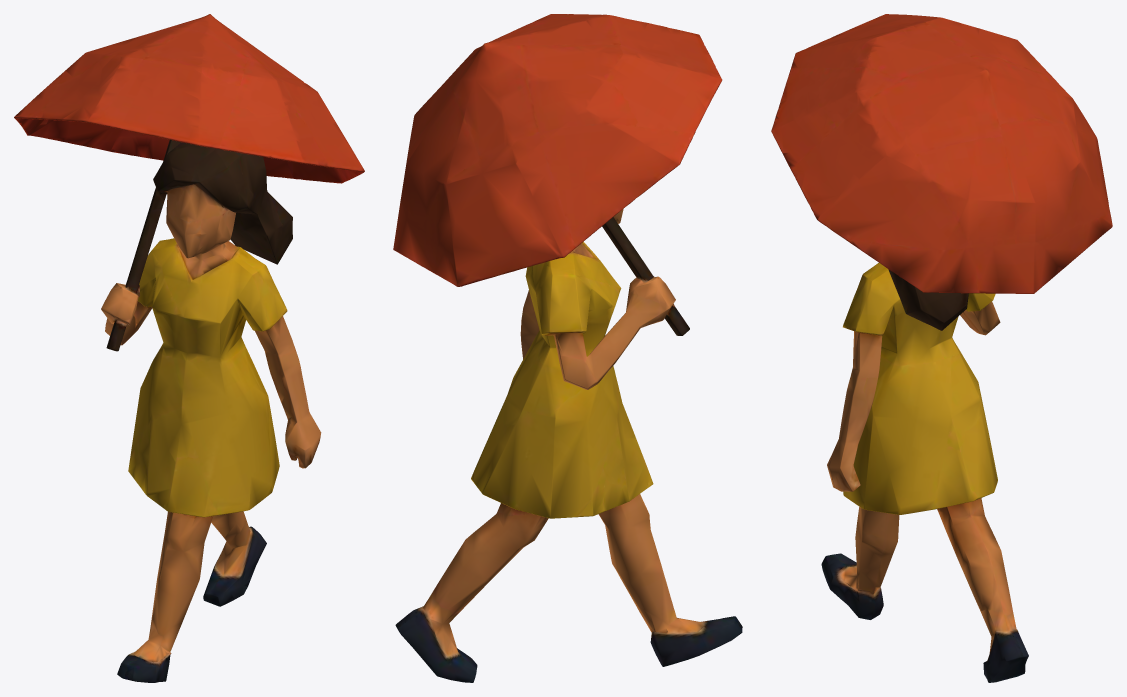
Rendered from przechodzien-k.glb.
3 renders of one model, left to right at view 1: azimuth 30°, elevation 25°; view 2: azimuth 150°, elevation 25°; view 3: azimuth 270°, elevation 25°, orthographic. The views are drawn at different scales.
Parts seen in each view (by area): view 1: tripo_node_907d481c-e128-43e4-a42b-955163d28818; view 2: tripo_node_907d481c-e128-43e4-a42b-955163d28818; view 3: tripo_node_907d481c-e128-43e4-a42b-955163d28818.
Boxes of the visible parts, x1,y1,x2,y2 form: tripo_node_907d481c-e128-43e4-a42b-955163d28818: (14, 14, 364, 682); tripo_node_907d481c-e128-43e4-a42b-955163d28818: (393, 14, 742, 682); tripo_node_907d481c-e128-43e4-a42b-955163d28818: (771, 14, 1112, 682).
Bounding box in the file's own units: 0.4976 × 0.9798 × 0.5012.
Materials: 1 (1 with a texture image).
